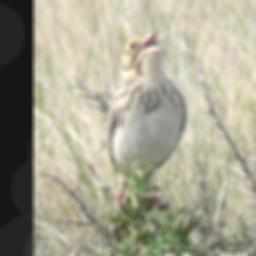Sparrow: (101, 27, 189, 212)
